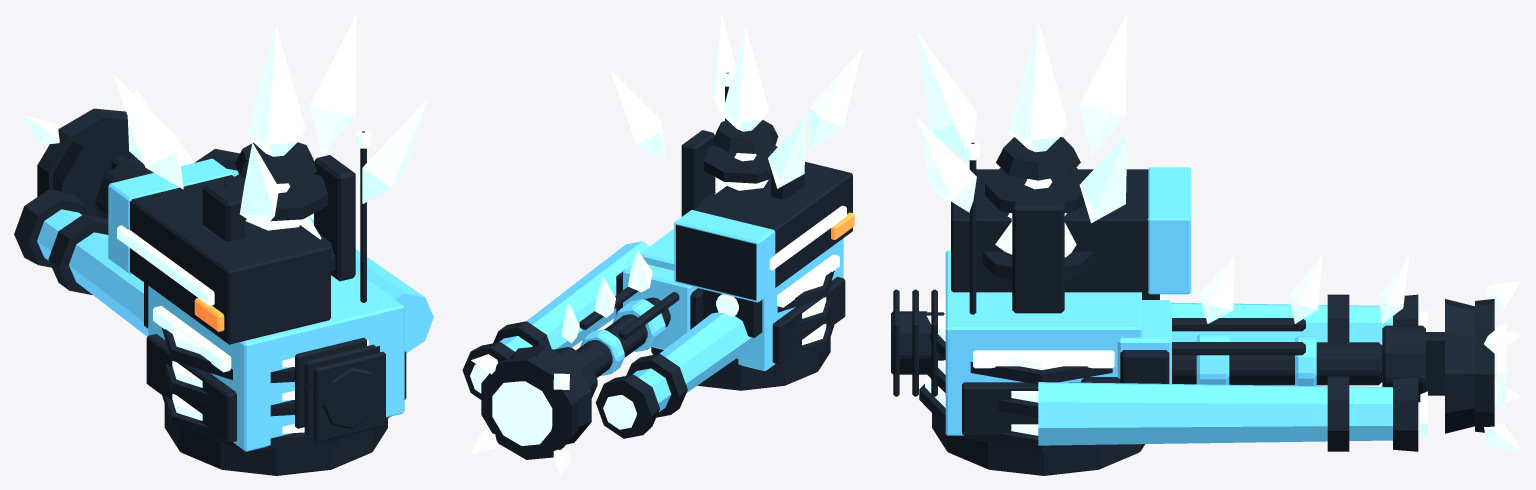
File: tower_frost2_turret.glb
The picture shows the model from 3 angles, left to right: view 1: azimuth 30°, elevation 25°; view 2: azimuth 150°, elevation 25°; view 3: azimuth 270°, elevation 25°; orthographic projection. The views are drawn at different scales.
Parts seen in each view (by area): view 1: TowerFrost2_Turret, TowerFrost2_Barrel; view 2: TowerFrost2_Turret, TowerFrost2_Barrel; view 3: TowerFrost2_Turret, TowerFrost2_Barrel.
Boxes of the visible parts, x1,y1,x2,y2 form: TowerFrost2_Turret: (108,15,427,475); TowerFrost2_Barrel: (14,89,433,353); TowerFrost2_Turret: (610,14,862,390); TowerFrost2_Barrel: (462,241,754,475); TowerFrost2_Turret: (891,14,1191,475); TowerFrost2_Barrel: (1038,255,1521,452).
Size of the model in its own units: 0.598 by 0.825 by 1.16.
